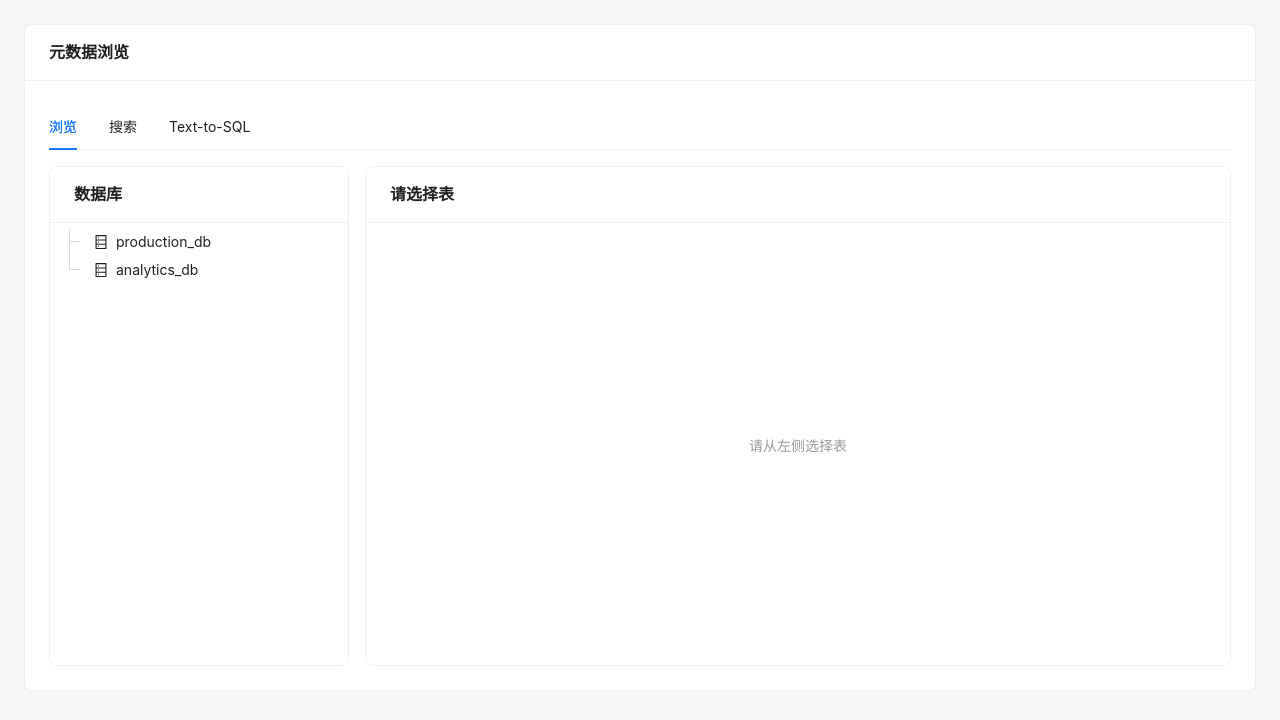
Test case: MetadataPage SQL 结果模态框 › 生成 SQL 后应该显示模态框
Click the tab "Text-to-SQL" at (210, 127), box [169,116,250,138]
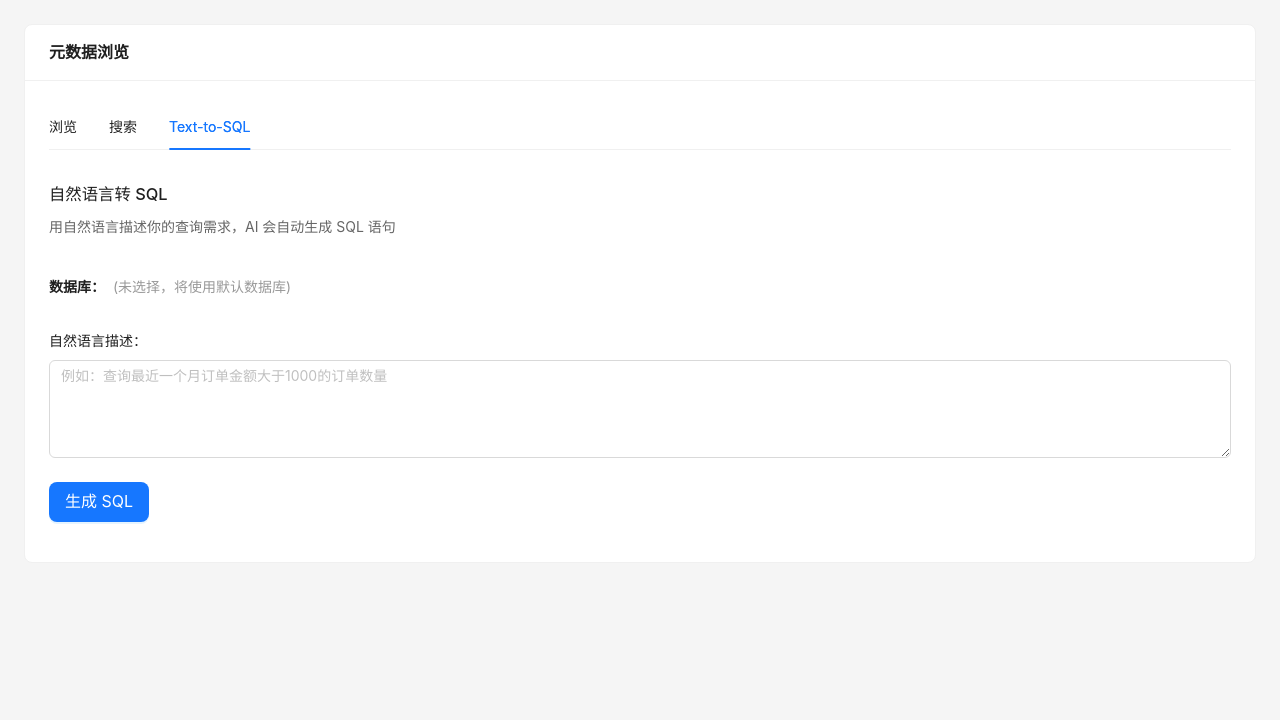
Check: the text box with placeholder "例如：查询最近一个月订单金额大于1000的订单数量" is shown
Type "查询订单数量" into the text box with placeholder "例如：查询最近一个月订单金额大于1000的订单数量" at (640, 409), box [49,360,1231,458]
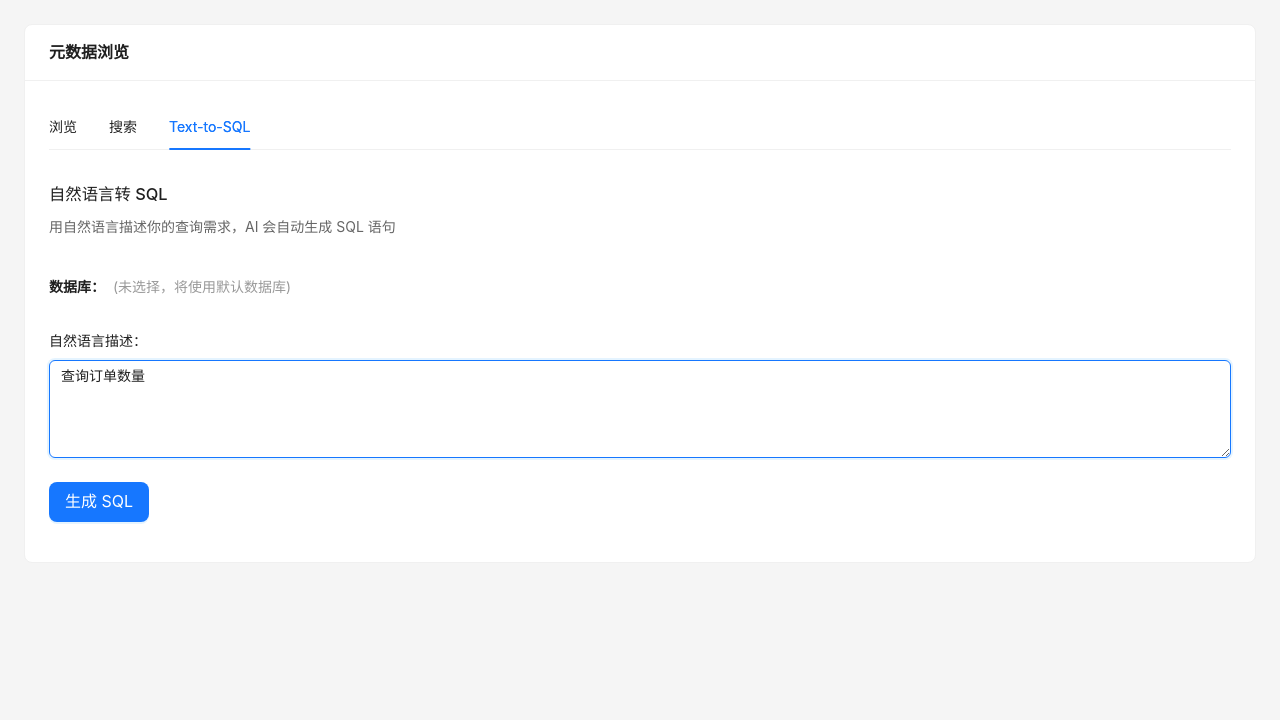
Click the button "生成 SQL" at (99, 502), box [49,482,149,522]
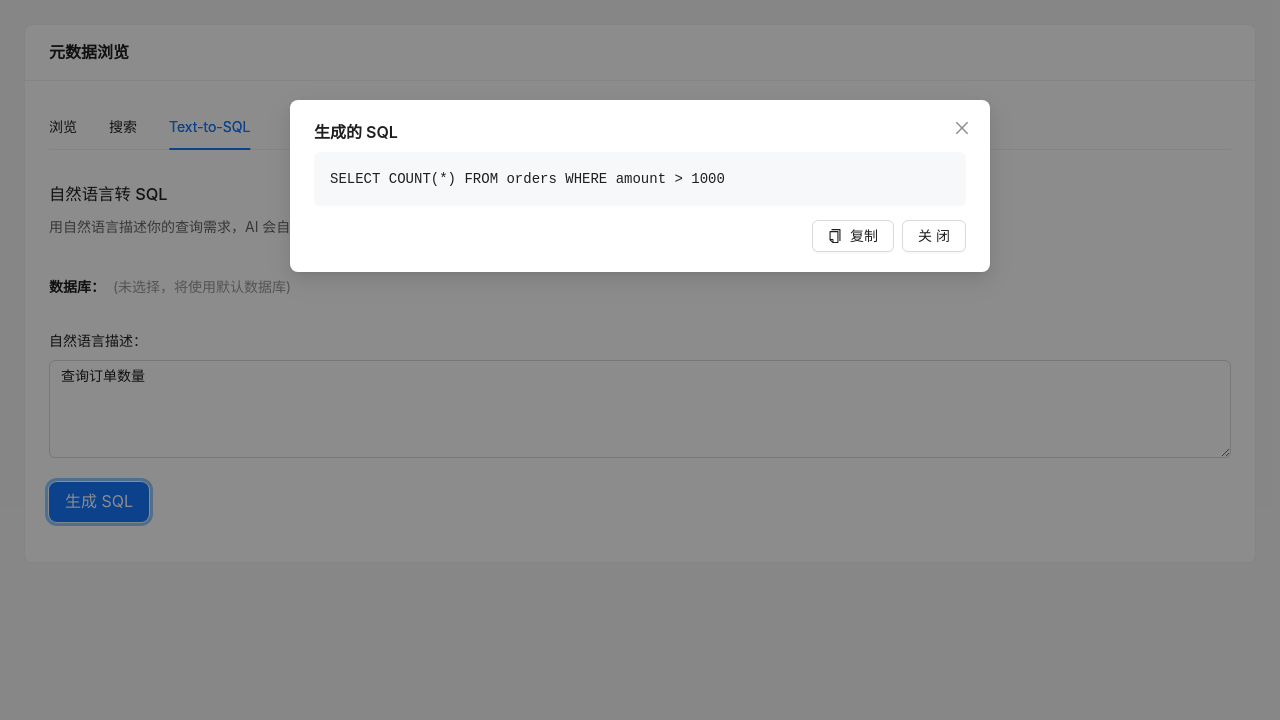
Check: the text "生成的 SQL" is shown, box [314,122,398,142]
